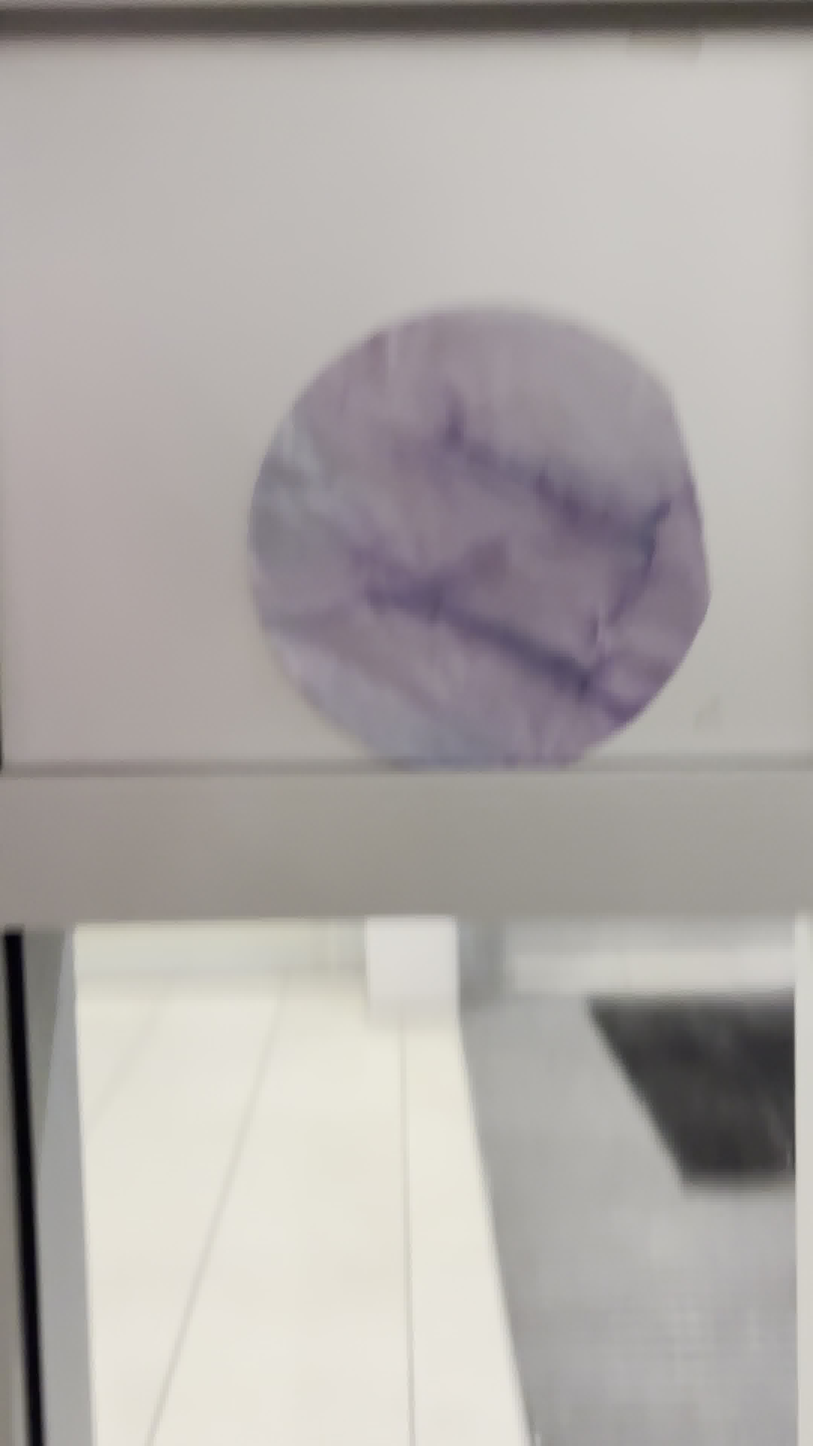Target: (226, 285, 731, 788)
